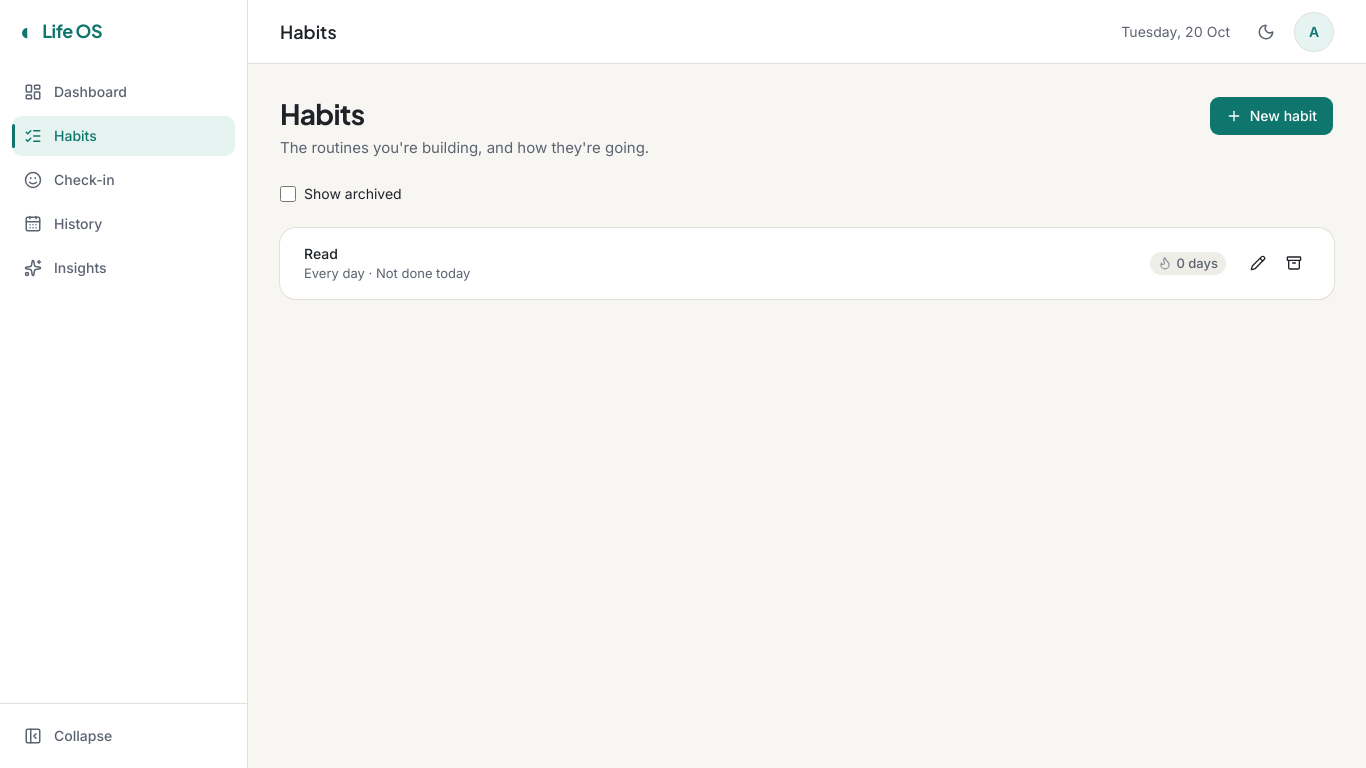
Test case: HabitsPage › does nothing when the archive is cancelled
Click the button named "Archive Read" at (1294, 263), box [1278,247,1310,279]
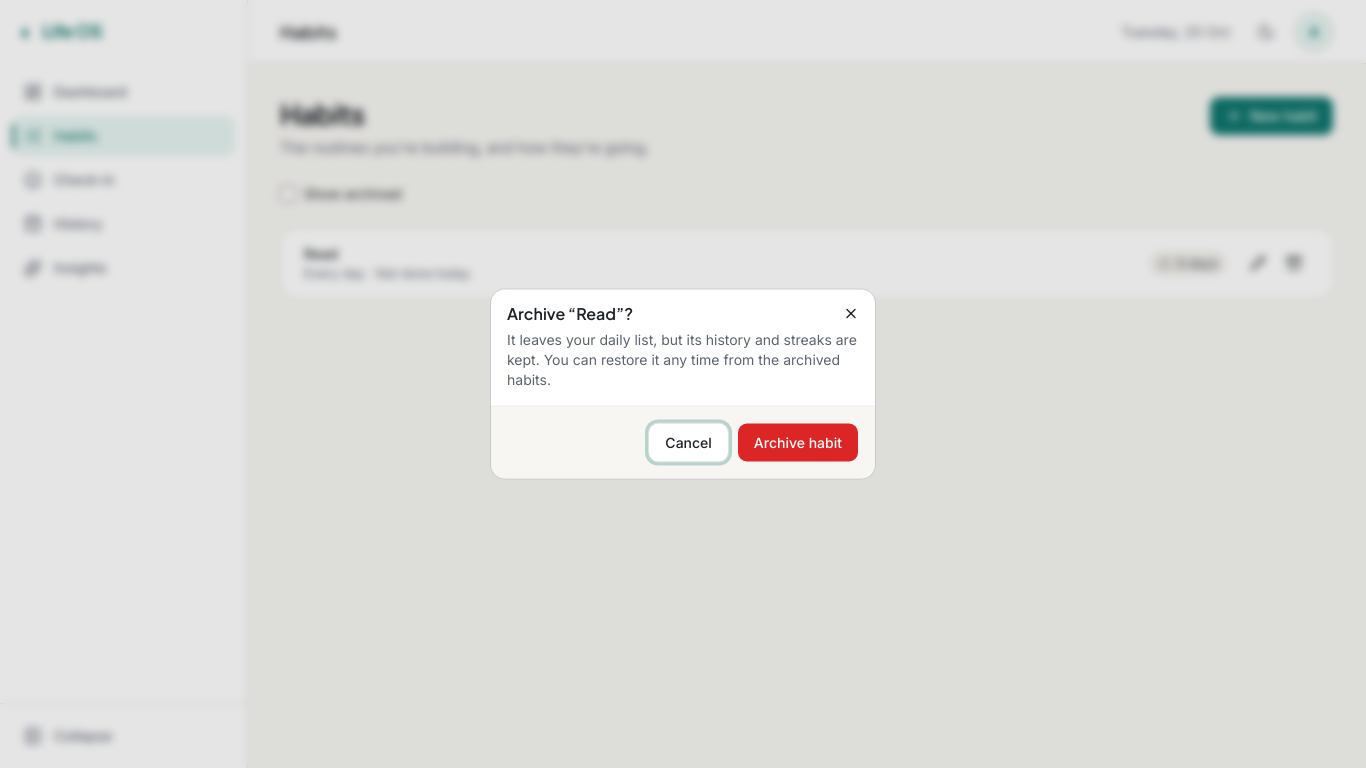
Click the button "Cancel" at (689, 442), box [648,422,729,462]
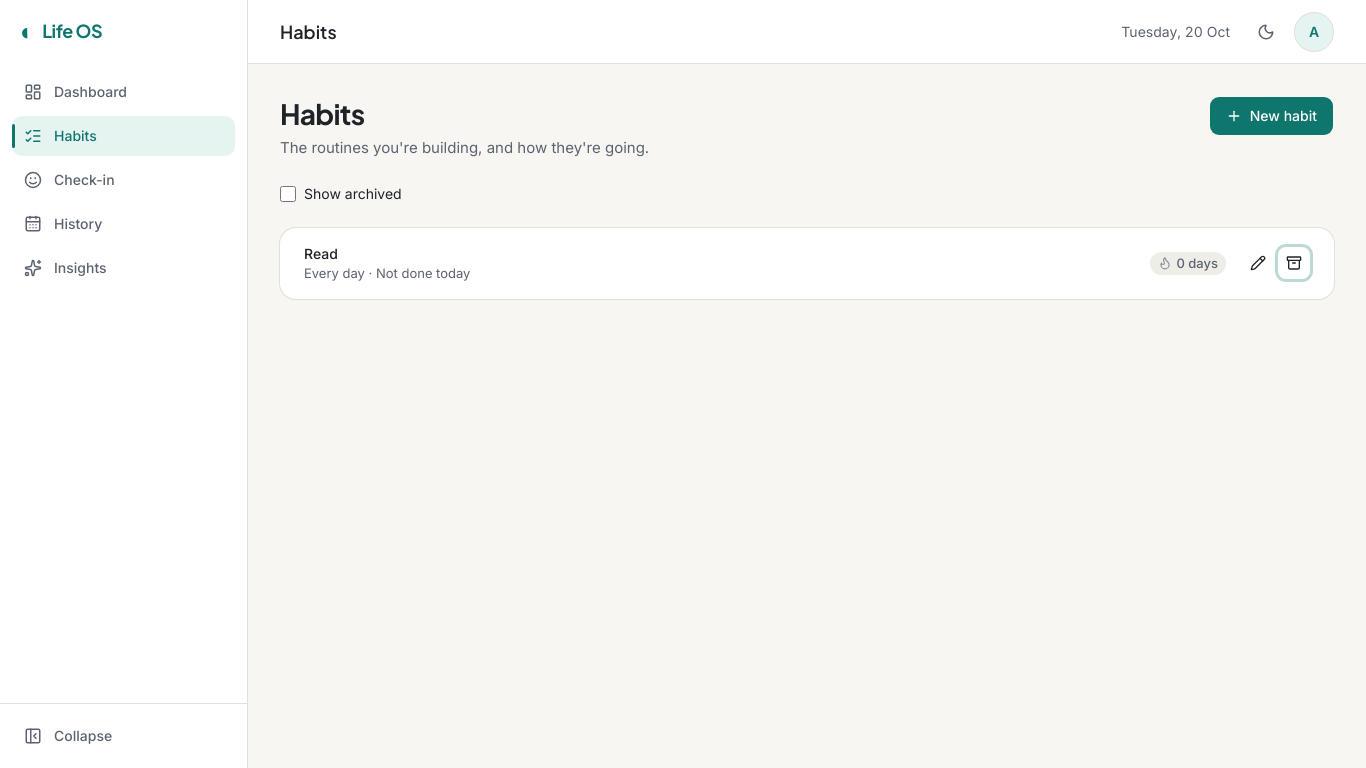
expect the text "Read" is shown: met, box [304,244,338,264]
expect the dialog is gone: met
